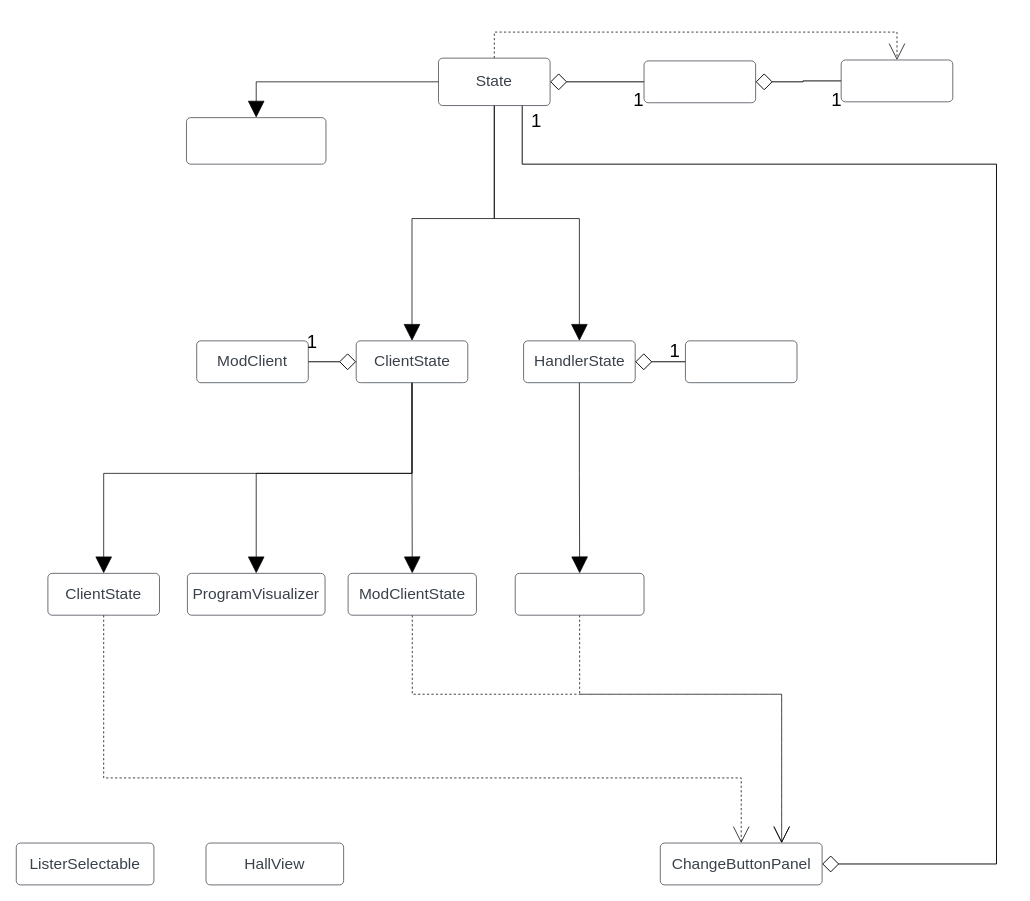
This 1030x901 diagram has some shape labels left out. Here are the shapes that lost their labels. From the top down, the centre of each, then its label:
the point at 699,81: Window
the point at 896,80: Multiplex
the point at 256,140: ModeSelectorState
the point at 741,361: ModHandler
the point at 579,594: HandlerModState
